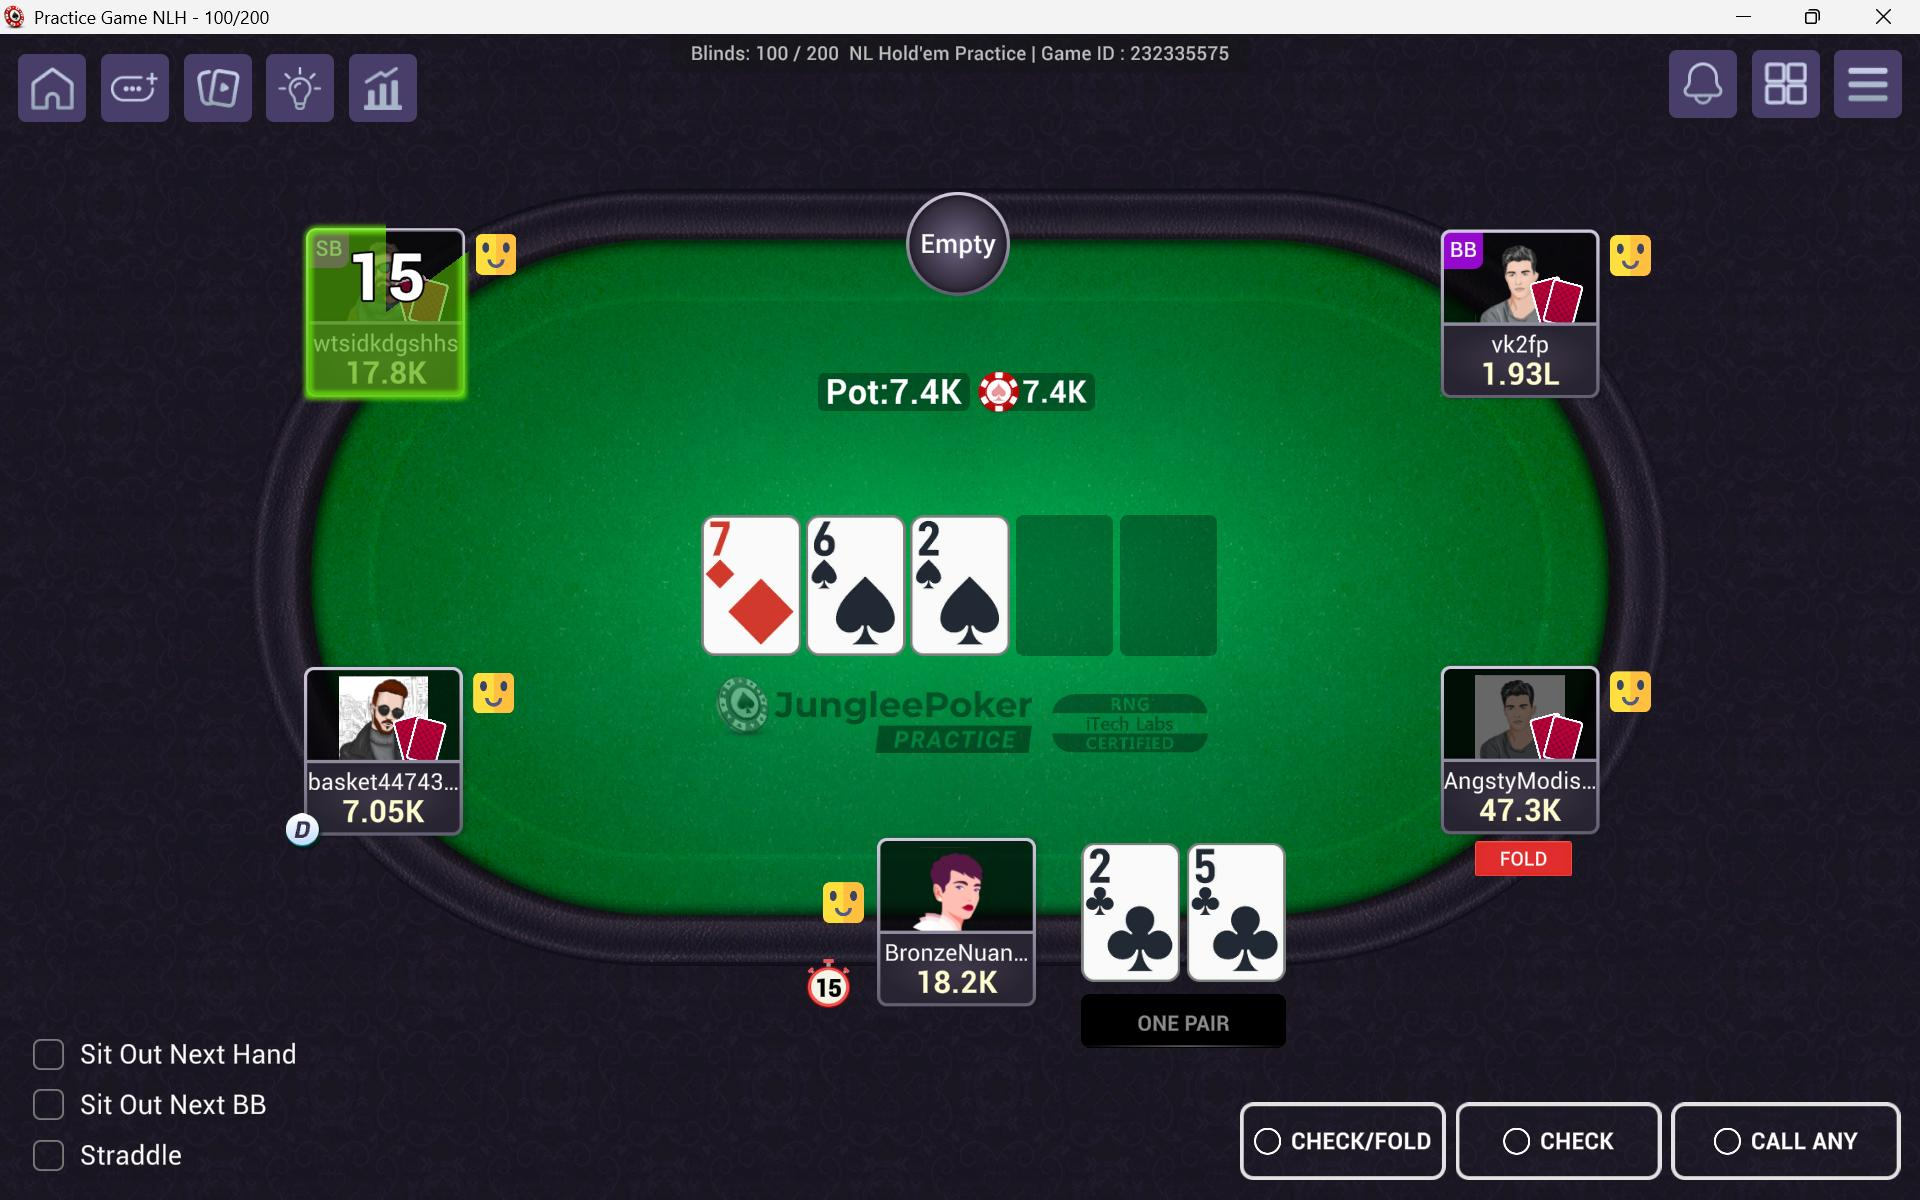card1_rank: (1085, 840, 1130, 888)
card1_suite_club: (1088, 905, 1183, 980)
card2_rank: (1190, 845, 1240, 888)
card2_suite_club: (1205, 898, 1285, 980)
flop1_rank: (702, 515, 768, 568)
flop1_suite_diamond: (715, 565, 798, 655)
flop2_rank: (808, 515, 865, 562)
flop2_suite_spades: (818, 565, 903, 650)
flop3_rank: (910, 515, 970, 568)
flop3_suite_spades: (930, 575, 1003, 653)
game_id: (1030, 35, 1268, 80)
my_stack: (890, 962, 1012, 1005)
position_BB: (1445, 228, 1485, 270)
position_SB: (310, 235, 360, 265)
total_pot: (818, 370, 1098, 412)
villian1_name: (298, 755, 465, 795)
villian1_stack: (310, 795, 455, 830)
villian2_name: (308, 325, 465, 358)
villian2_stack: (325, 358, 452, 398)
villian4_name: (1458, 320, 1585, 360)
villian4_stack: (1455, 362, 1603, 395)
villian5_name: (1435, 760, 1600, 798)
villian5_stack: (1455, 793, 1585, 828)
